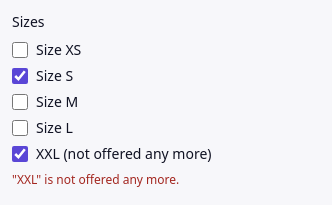
Test case: a multiple choice › marks a stored value that is no longer offered, and lets it be unchecked
The image size is (332, 205).
Expected: the text "\"XXL\" is not offered any more." is shown, [12,171,179,188]
Click the checkbox labelled "XXL (not offered any more)": (20, 154) [12,146,28,162]
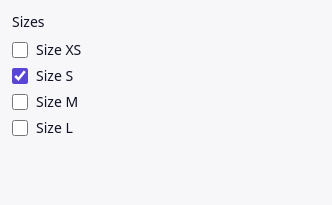
Result: the text "not offered any more" is gone
